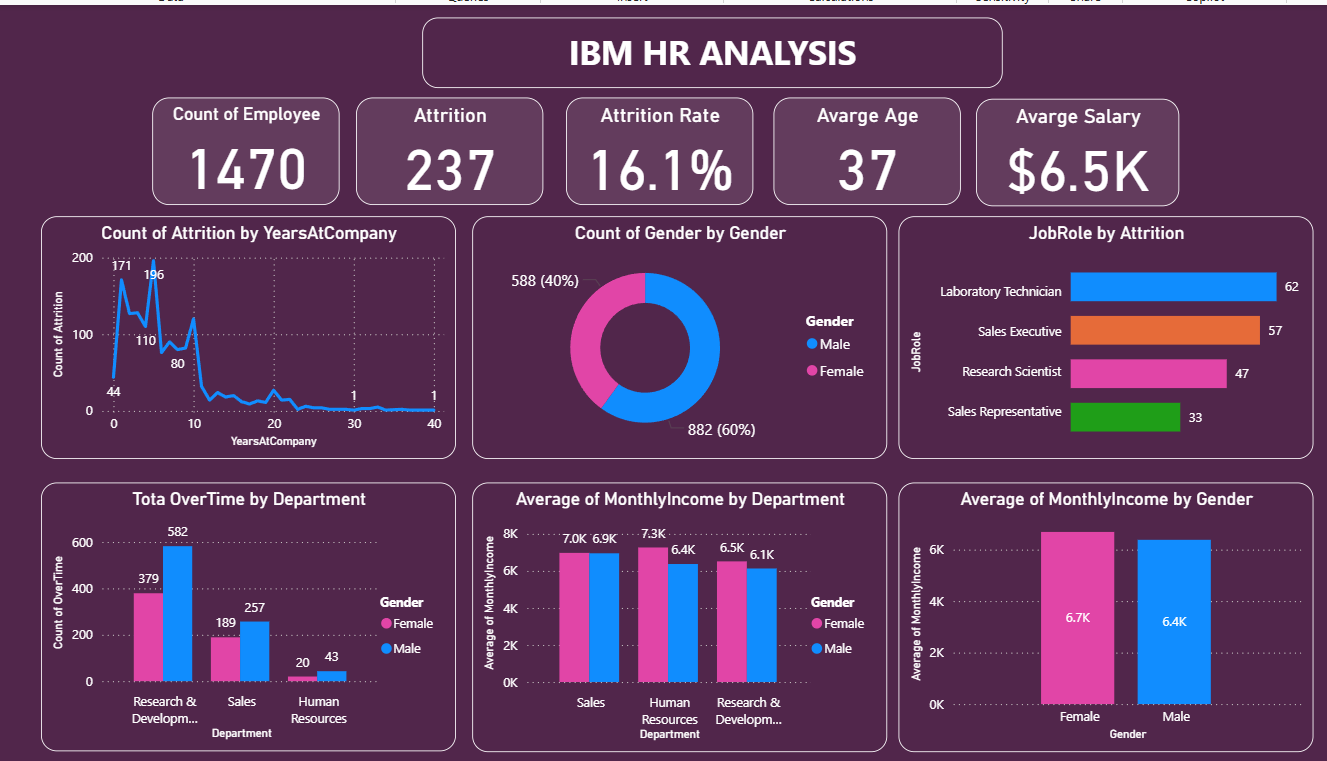

This screenshot's page, from the dashboard's own definition file:
{"tool":"powerbi","page":{"name":"Page 1","canvas":[1280,720],"ordinal":0},"visuals":[{"type":"textbox","box":[406.3,11.4,553.2,67],"z":0},{"type":"card","title":"Count of Employee","fields":{"Values":["Sum(WA_Fn-UseC_-HR-Employee-Attrition.EmployeeCount)"]},"box":[149.1,88.4,178.2,102.7],"z":1000},{"type":"card","title":"Attrition","fields":{"Values":["WA_Fn-UseC_-HR-Employee-Attrition.AttritionCount"]},"box":[343,88.4,178.2,102.7],"z":2000},{"type":"card","title":"Attrition Rate","fields":{"Values":["WA_Fn-UseC_-HR-Employee-Attrition.AttritionRate"]},"box":[542.6,88.4,178.2,102.7],"z":3000},{"type":"card","title":"Avarge Age","fields":{"Values":["Avg(WA_Fn-UseC_-HR-Employee-Attrition.Age)"]},"box":[740.8,88.4,178.2,102.7],"z":4000},{"type":"card","title":"Avarge Salary","fields":{"Values":["Avg(WA_Fn-UseC_-HR-Employee-Attrition.MonthlyIncome)"]},"box":[933,89,193.9,102.7],"z":5000},{"type":"clusteredBarChart","title":"JobRole by Attrition","fields":{"Y":["CountNonNull(WA_Fn-UseC_-HR-Employee-Attrition.JobRole)"],"Series":["WA_Fn-UseC_-HR-Employee-Attrition.JobRole"],"Category":["WA_Fn-UseC_-HR-Employee-Attrition.JobRole"]},"box":[860,200.7,394.9,231],"z":6000},{"type":"columnChart","title":"Average of MonthlyIncome by Gender","fields":{"Category":["WA_Fn-UseC_-HR-Employee-Attrition.Gender"],"Y":["Avg(WA_Fn-UseC_-HR-Employee-Attrition.MonthlyIncome)"],"Series":["WA_Fn-UseC_-HR-Employee-Attrition.Gender"]},"box":[860,454.5,394.9,256.6],"z":7000},{"type":"donutChart","fields":{"Category":["WA_Fn-UseC_-HR-Employee-Attrition.Gender"],"Y":["CountNonNull(WA_Fn-UseC_-HR-Employee-Attrition.Gender)"]},"box":[453.7,200.7,394.9,231],"z":8000},{"type":"clusteredColumnChart","title":"Tota OverTime by Department","fields":{"Category":["WA_Fn-UseC_-HR-Employee-Attrition.Department"],"Series":["WA_Fn-UseC_-HR-Employee-Attrition.Gender"],"Y":["CountNonNull(WA_Fn-UseC_-HR-Employee-Attrition.OverTime)"]},"box":[42.4,454.2,395.1,255.8],"z":9000},{"type":"lineChart","fields":{"Y":["CountNonNull(WA_Fn-UseC_-HR-Employee-Attrition.Attrition)"],"Category":["WA_Fn-UseC_-HR-Employee-Attrition.YearsAtCompany"]},"box":[43.1,200.7,394.9,231],"z":10000},{"type":"clusteredColumnChart","title":"Average of MonthlyIncome by Department","fields":{"Category":["WA_Fn-UseC_-HR-Employee-Attrition.Department"],"Y":["Avg(WA_Fn-UseC_-HR-Employee-Attrition.MonthlyIncome)"],"Series":["WA_Fn-UseC_-HR-Employee-Attrition.Gender"]},"box":[453.7,454.5,394.9,256.6],"z":11000}]}

Visuals, with their boxes in screenshot pixels (x1, y1, x2, y2), scaled from the page's 1280x720 canvas onto the 1327x761 screenshot:
textbox: <region>421, 12, 995, 83</region>
"Count of Employee" card: <region>155, 93, 339, 202</region>
"Attrition" card: <region>356, 93, 540, 202</region>
"Attrition Rate" card: <region>563, 93, 747, 202</region>
"Avarge Age" card: <region>768, 93, 953, 202</region>
"Avarge Salary" card: <region>967, 94, 1168, 203</region>
"JobRole by Attrition" clusteredBarChart: <region>892, 212, 1301, 456</region>
"Average of MonthlyIncome by Gender" columnChart: <region>892, 480, 1301, 752</region>
donutChart - WA_Fn-UseC_-HR-Employee-Attrition.Gender x CountNonNull(WA_Fn-UseC_-HR-Employee-Attrition.Gender): <region>470, 212, 880, 456</region>
"Tota OverTime by Department" clusteredColumnChart: <region>44, 480, 454, 750</region>
lineChart - CountNonNull(WA_Fn-UseC_-HR-Employee-Attrition.Attrition) x WA_Fn-UseC_-HR-Employee-Attrition.YearsAtCompany: <region>45, 212, 454, 456</region>
"Average of MonthlyIncome by Department" clusteredColumnChart: <region>470, 480, 880, 752</region>
